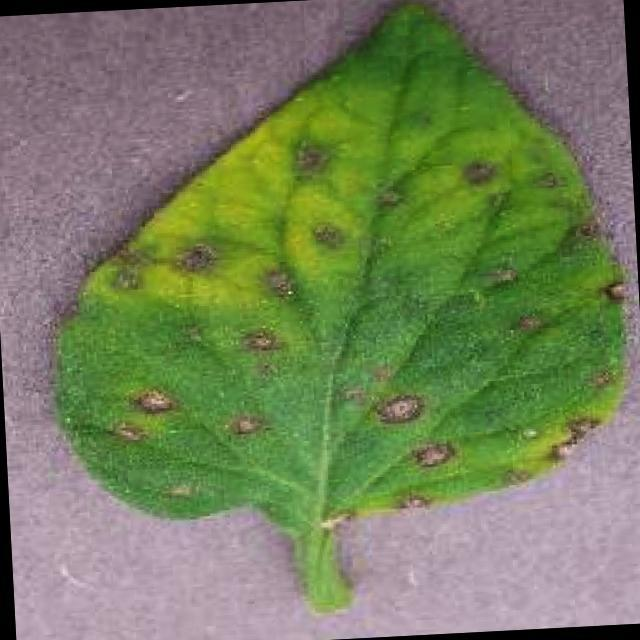Tomato Septoria spot leaf: (32, 0, 627, 529)
